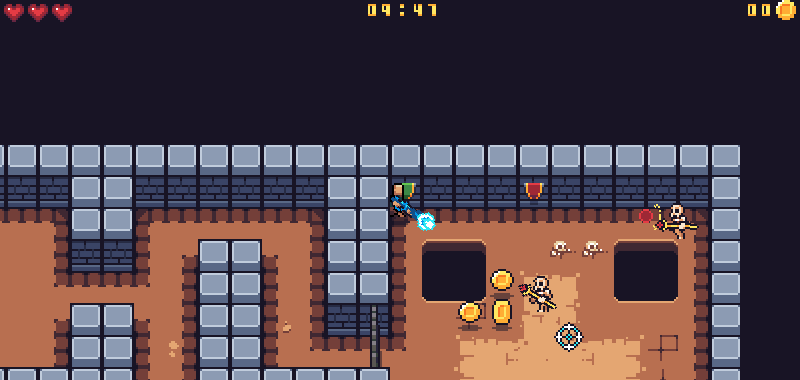enemy_skeleton: (656, 203, 699, 240), (519, 276, 558, 315)
enemy_skeleton_shoot: (636, 206, 655, 225)
gold: (489, 296, 515, 329), (455, 300, 483, 325), (488, 267, 515, 291)
trap_door: (363, 296, 387, 380)
